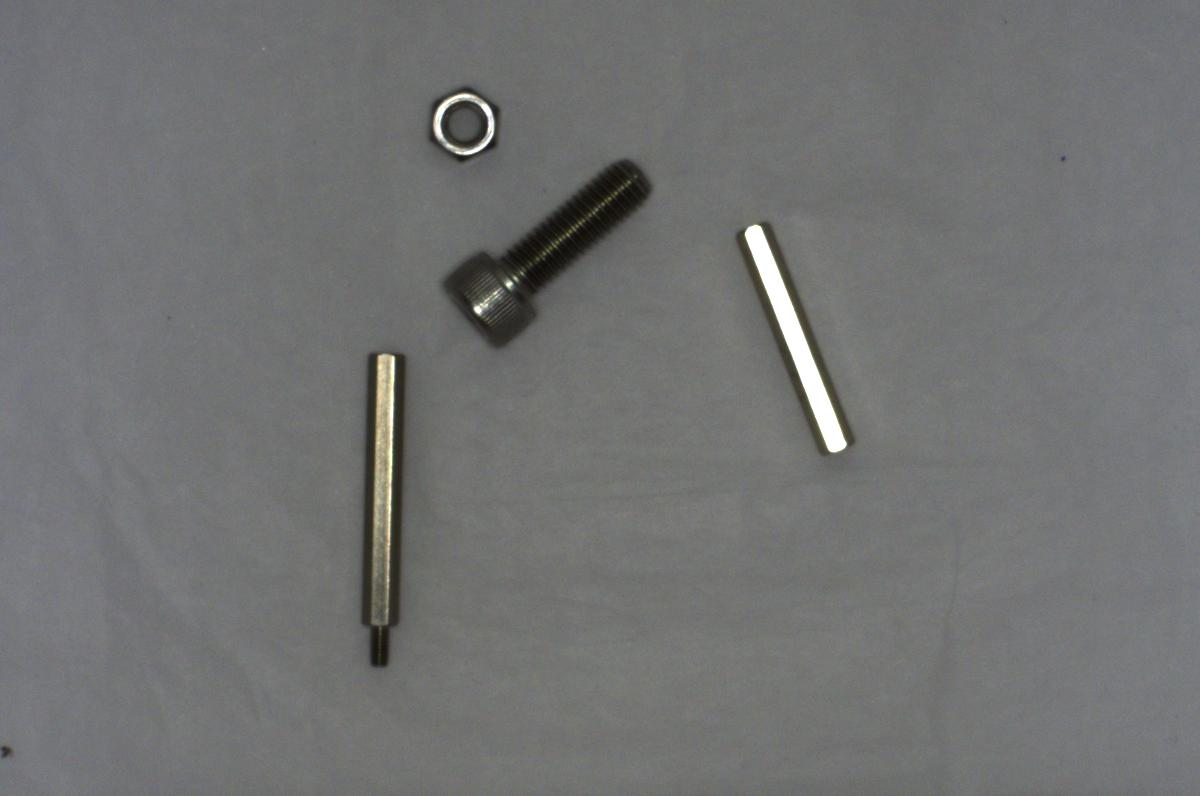Double hexagonal column: (733, 214, 861, 460)
Hexagon nut: (422, 73, 501, 165)
Hexagon screw: (433, 154, 651, 348)
Hexagonal steel column: (345, 347, 407, 668)
